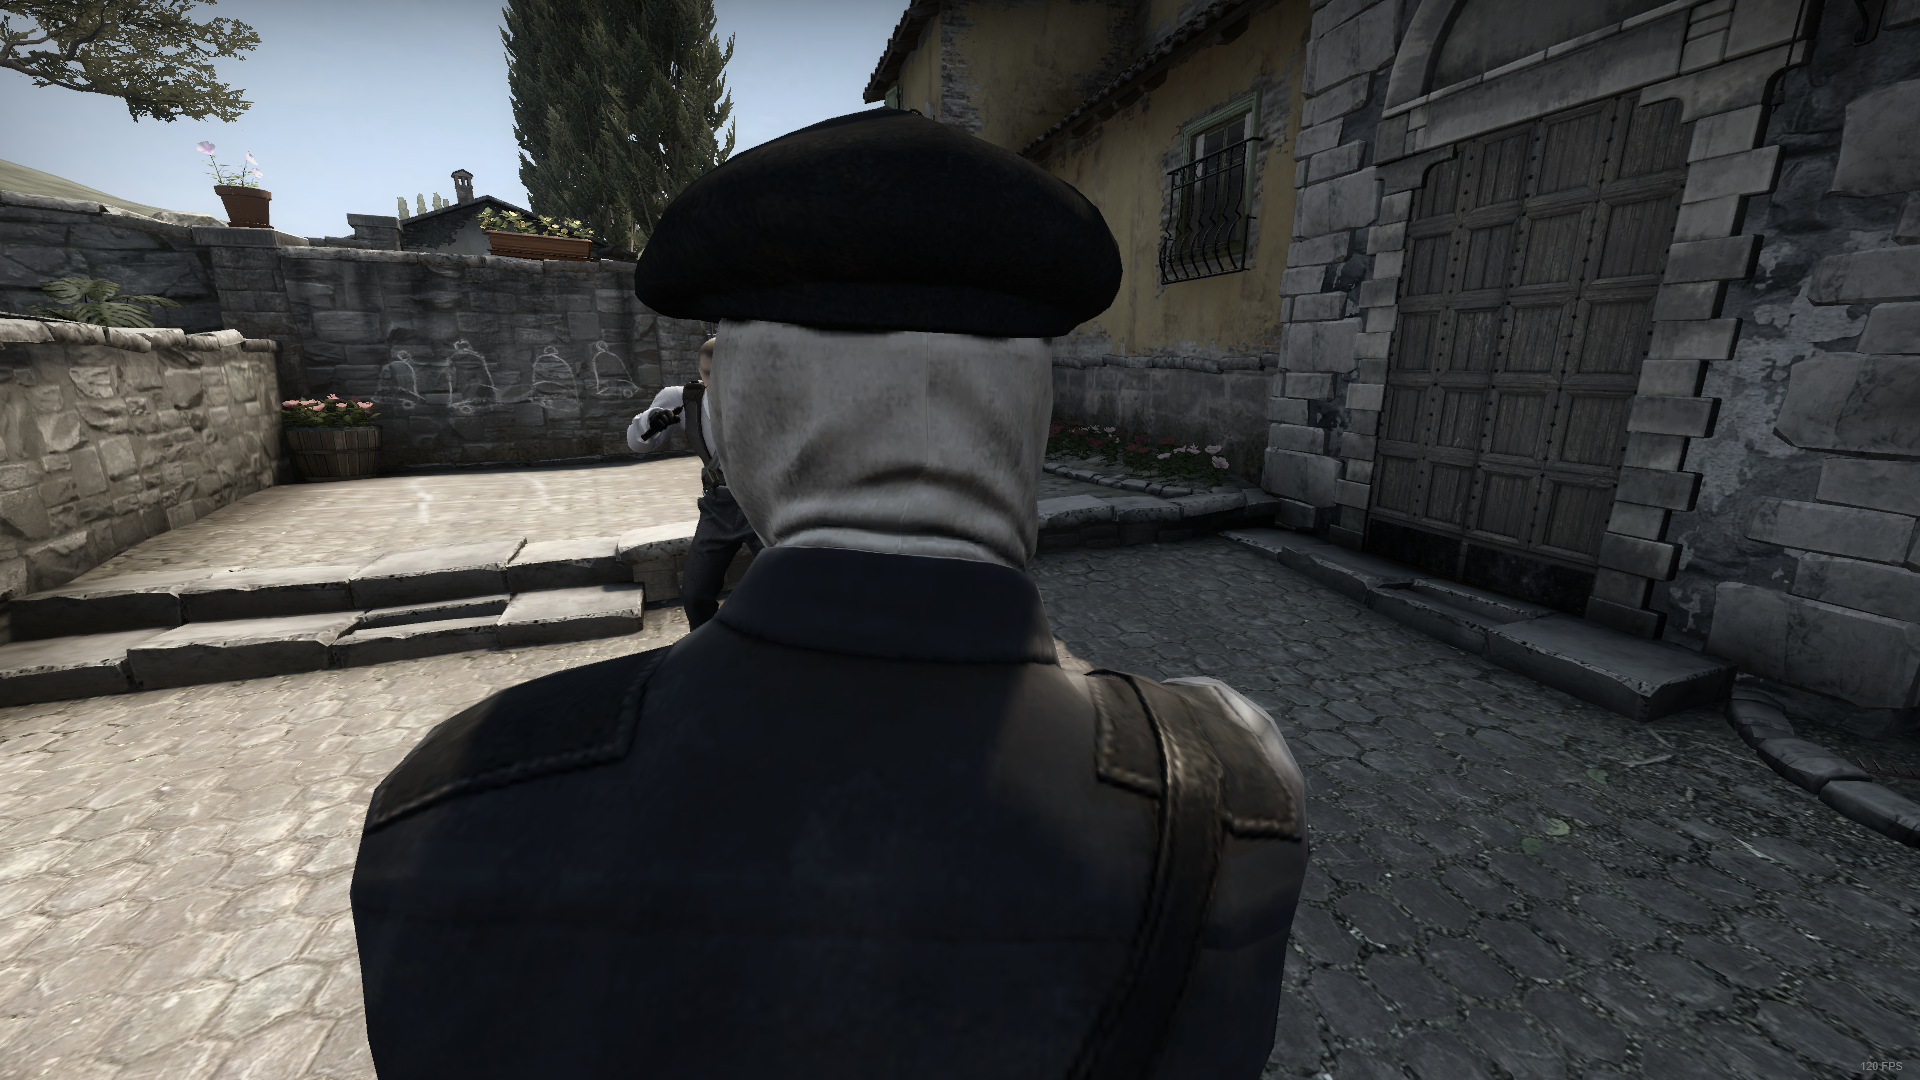t: (340, 109, 1313, 1080)
